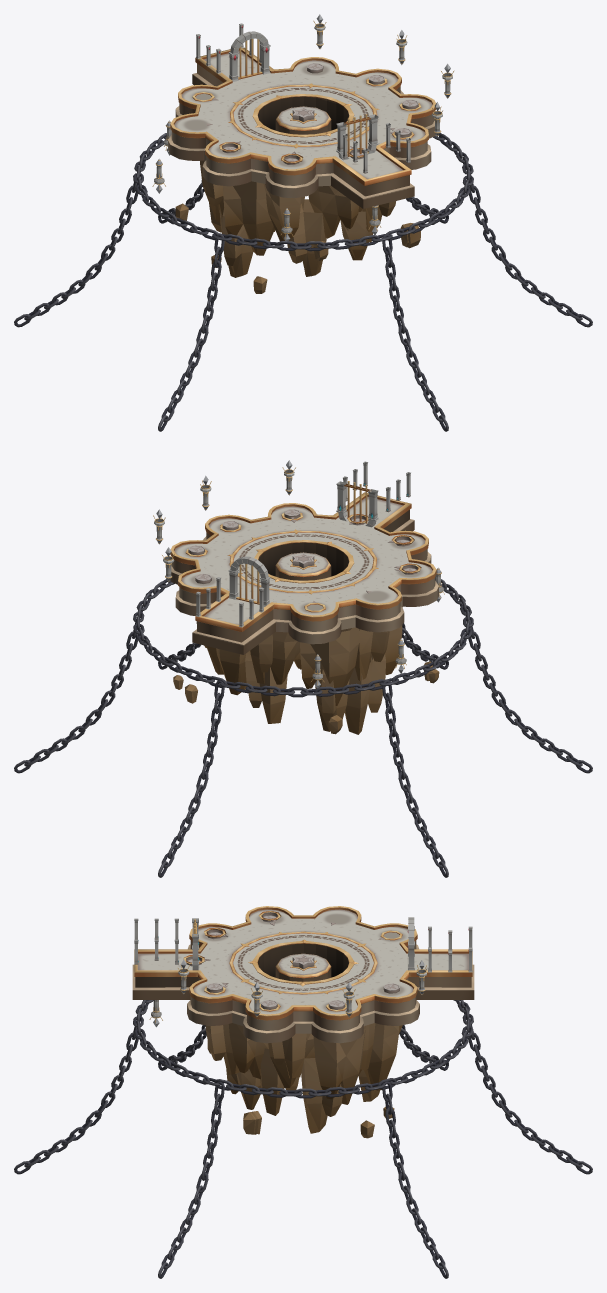
File: background 1.FBX
The picture shows the model from 3 angles, top to bottom: view 1: azimuth 30°, elevation 25°; view 2: azimuth 150°, elevation 25°; view 3: azimuth 270°, elevation 25°; orthographic projection.
Parts seen in each view (by area): view 1: Material #174, Object037, Object071, Object154; view 2: Material #174, Object037, Object071, Object154; view 3: Material #174, Object037, Object071, Object154.
Part boxes in pixels (bbox=[...]): Material #174: bbox=[14, 47, 592, 431]; Object037: bbox=[175, 160, 413, 293]; Object071: bbox=[196, 23, 270, 81]; Object154: bbox=[336, 114, 410, 173]; Material #174: bbox=[14, 492, 592, 877]; Object037: bbox=[173, 606, 439, 734]; Object071: bbox=[196, 556, 270, 627]; Object154: bbox=[336, 461, 410, 527]; Material #174: bbox=[14, 906, 592, 1278]; Object037: bbox=[205, 1023, 402, 1138]; Object071: bbox=[407, 917, 472, 972]; Object154: bbox=[134, 918, 199, 970].
Bounding box in the file's own units: 5591 × 3133 × 6451.
